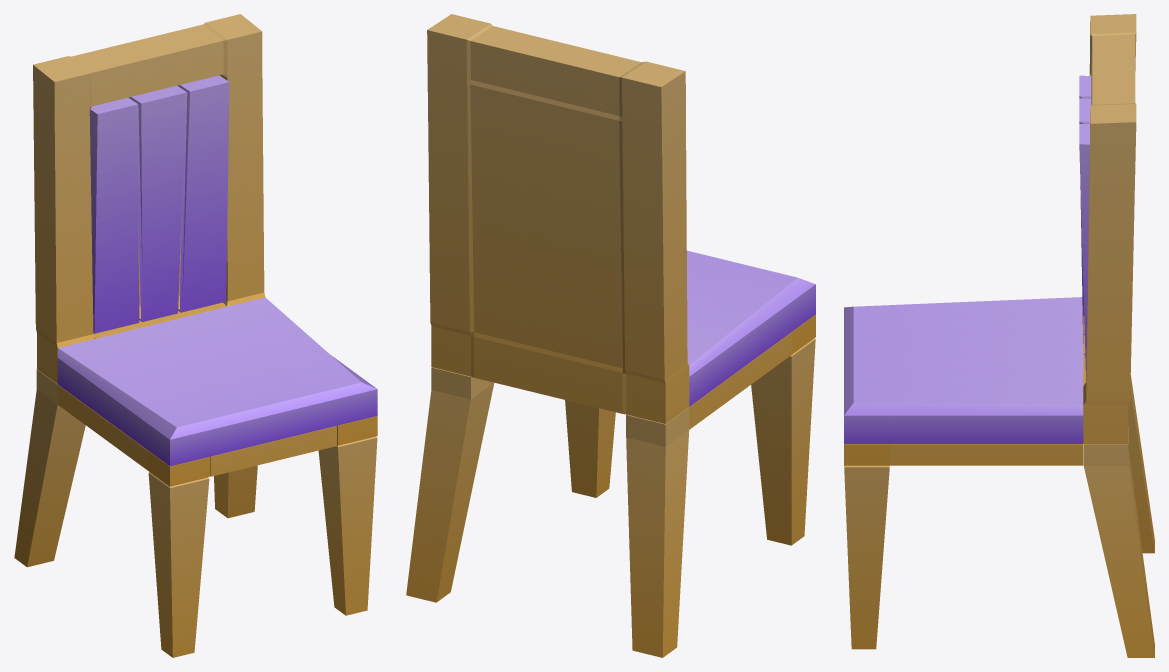
Rendered from chair-DT2A8a9t.glb.
The picture shows the model from 3 angles, left to right: view 1: azimuth 30°, elevation 25°; view 2: azimuth 150°, elevation 25°; view 3: azimuth 270°, elevation 25°; orthographic projection. The views are drawn at different scales.
Visible parts, largest first — view 1: Chair; view 2: Chair; view 3: Chair.
Boxes of the visible parts, x1,y1,x2,y2 form: Chair: (14,14,377,657); Chair: (406,14,815,657); Chair: (844,14,1154,657).
Size of the model in its own units: 0.5779 by 1.21 by 0.6405.
Materials: 1 (1 with a texture image).
